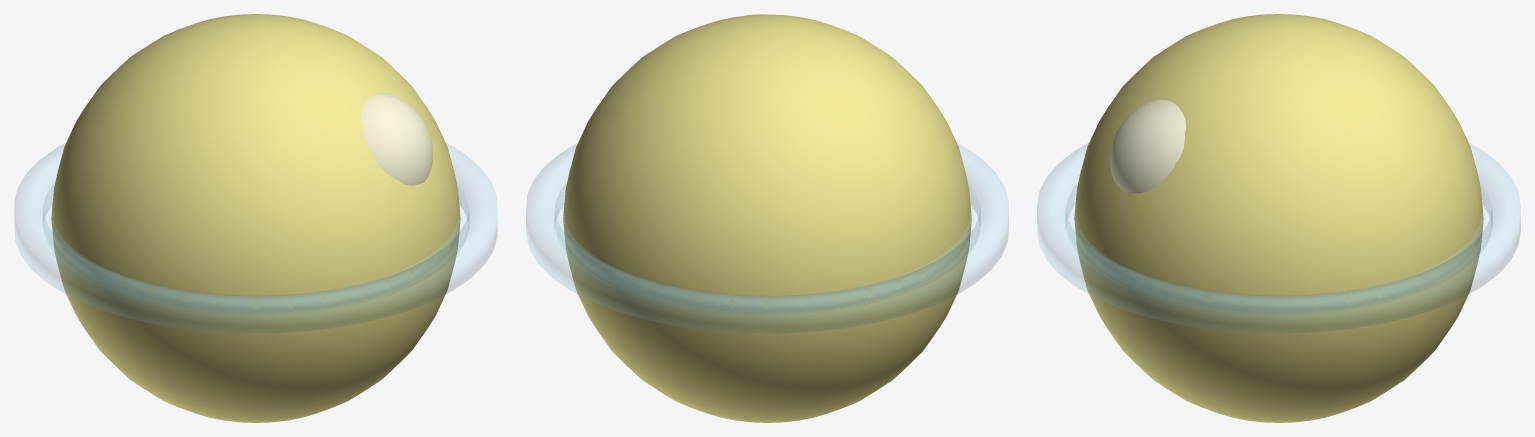
Rendered from atmosphere.glb.
The picture shows the model from 3 angles, left to right: view 1: azimuth 30°, elevation 25°; view 2: azimuth 150°, elevation 25°; view 3: azimuth 270°, elevation 25°; orthographic projection.
Parts seen in each view (by area): view 1: ozone_layer, atmosphere, cloud_layer_1, troposphere, stratosphere; view 2: ozone_layer, atmosphere, troposphere, stratosphere; view 3: ozone_layer, atmosphere, cloud_layer_1, troposphere, stratosphere.
Part boxes in pixels (x1=…): ozone_layer: x1=51, y1=14, x2=460, y2=422; atmosphere: x1=14, y1=143, x2=497, y2=333; cloud_layer_1: x1=361, y1=93, x2=432, y2=185; troposphere: x1=52, y1=214, x2=459, y2=297; stratosphere: x1=43, y1=183, x2=468, y2=256; ozone_layer: x1=563, y1=14, x2=971, y2=422; atmosphere: x1=526, y1=143, x2=1008, y2=333; troposphere: x1=564, y1=215, x2=970, y2=297; stratosphere: x1=555, y1=183, x2=979, y2=253; ozone_layer: x1=1074, y1=14, x2=1483, y2=422; atmosphere: x1=1037, y1=143, x2=1520, y2=333; cloud_layer_1: x1=1110, y1=99, x2=1185, y2=193; troposphere: x1=1075, y1=214, x2=1482, y2=297; stratosphere: x1=1066, y1=184, x2=1491, y2=254.
Size of the model in its own units: 1.21 by 1.03 by 1.21.
